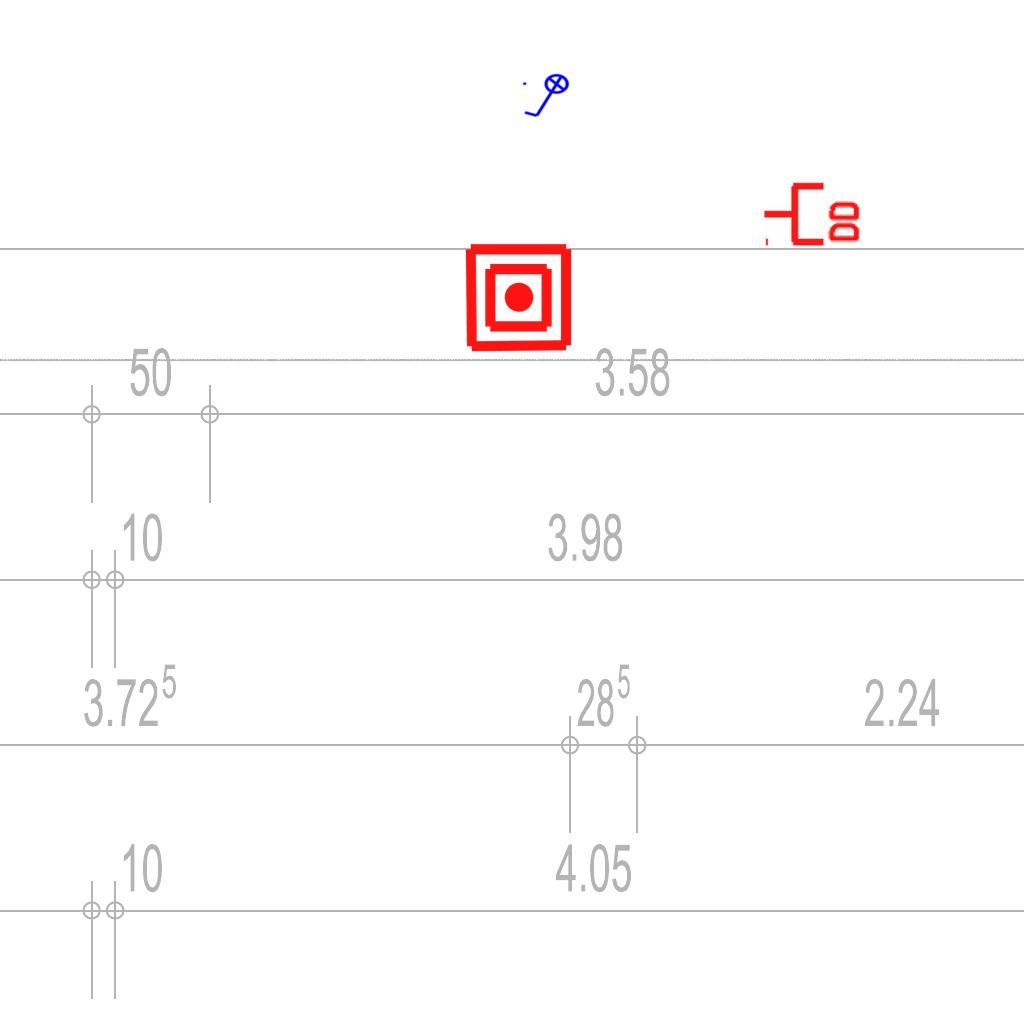Ausschalter_beleuchtet: (520, 73, 576, 121)
Datenanschluss_zweifach: (761, 178, 864, 247)
NAM-Nichtautomatischer_Melder: (462, 241, 575, 354)
